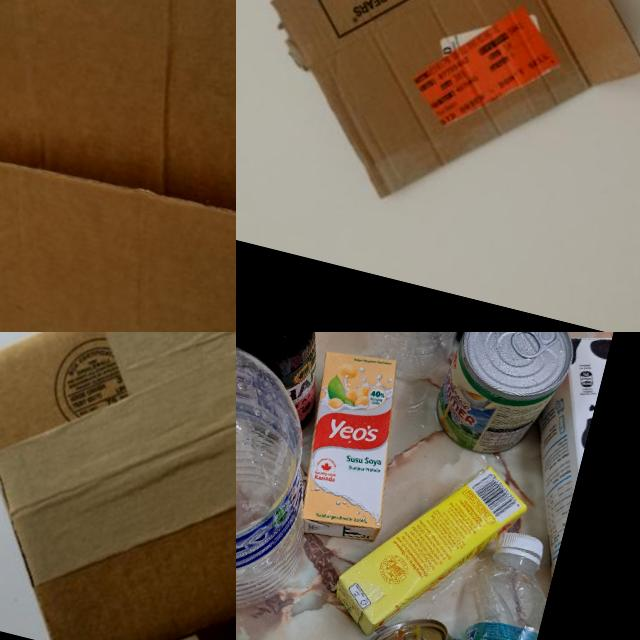aba de lata: (509, 332, 559, 364), (392, 614, 425, 640)
caixinha: (330, 436, 533, 640), (282, 342, 426, 556), (507, 332, 612, 600)
garrafa de vidro: (236, 332, 361, 440)
garrafa plástica: (236, 332, 337, 626), (417, 547, 554, 640), (356, 332, 492, 401)
lata: (429, 332, 587, 466), (337, 607, 484, 640)
papelão: (236, 0, 640, 255), (0, 0, 236, 332), (0, 332, 236, 640)
tampa plástica: (494, 524, 550, 564)
